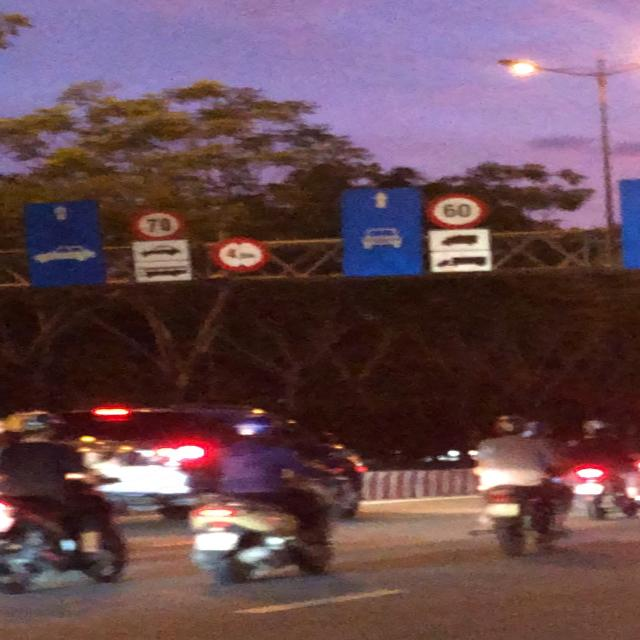Bien bao han che chieu cao: (211, 233, 270, 276)
Bien bao toc do toi da cho phep: (425, 190, 491, 232), (124, 208, 193, 244)
